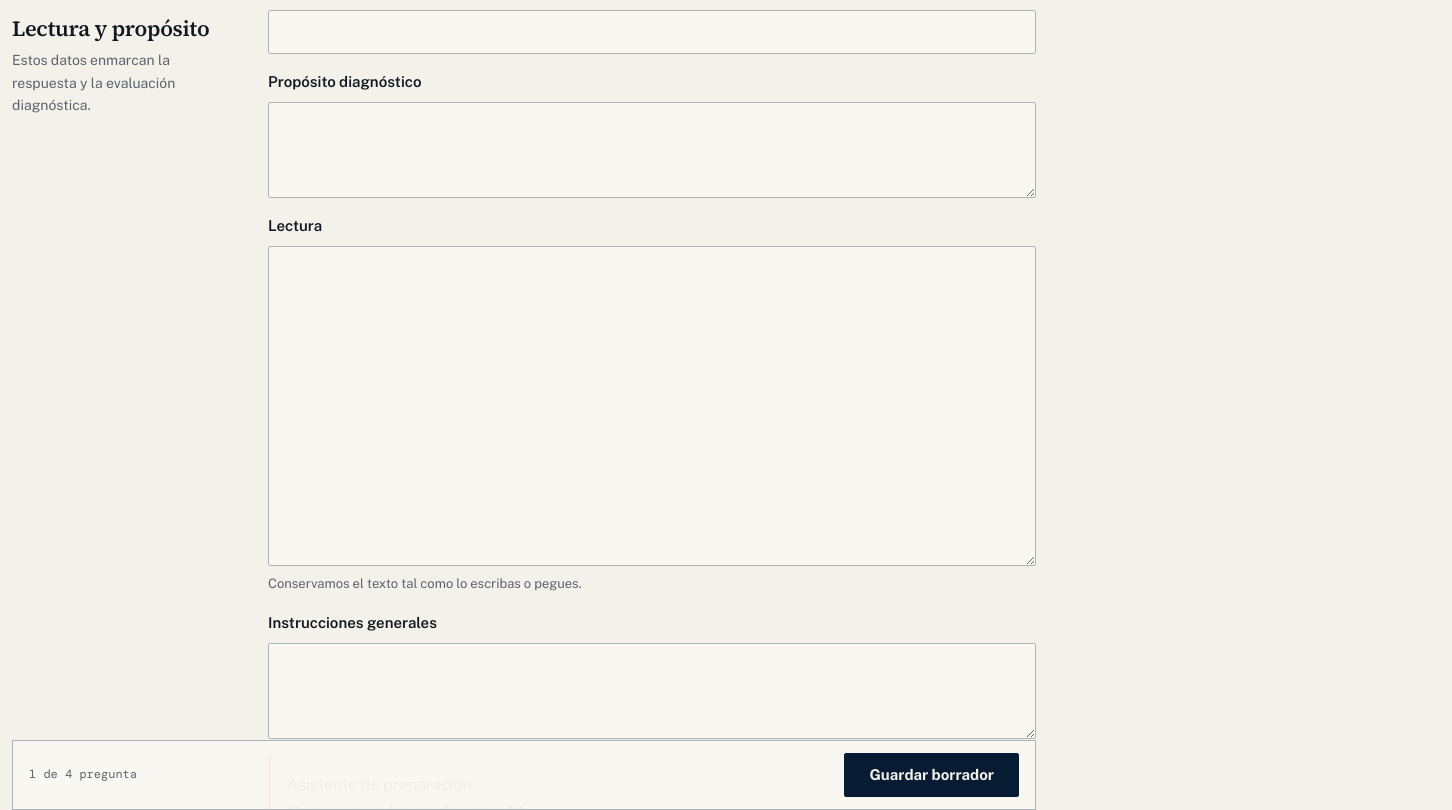
it: AssessmentEditorScreen · asistente IA › muestra un mensaje comprensible cuando la lectura supera el límite del contrato
(page scrolled)
Type "Texto de lectura para analizar." into the text box labelled "Lectura".
click(652, 406); type("Texto de lectura para analizar.")  # box x1=268 y1=246 x2=1036 y2=566
(page scrolled)
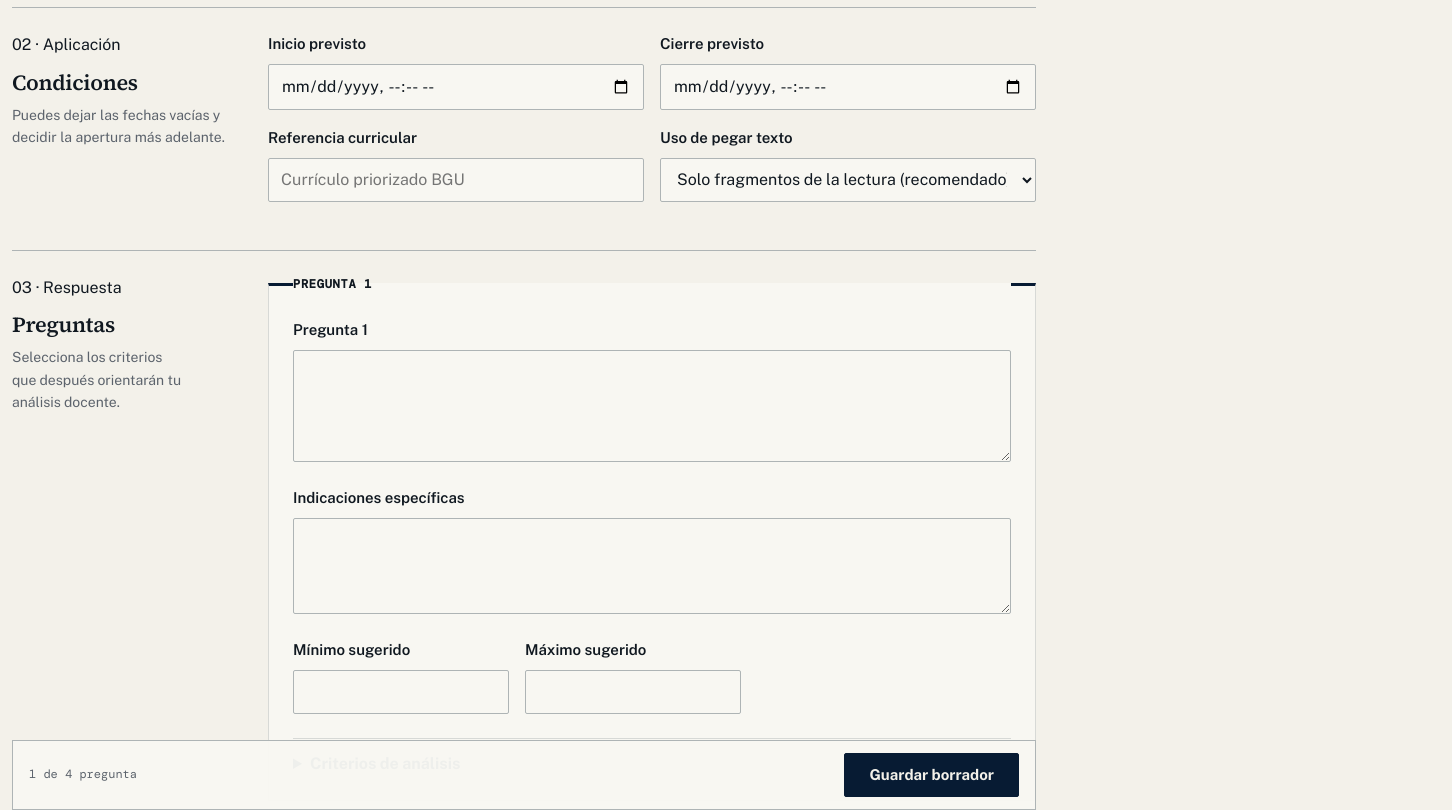
Type "¿Qué sostiene el autor?" into the text box labelled "Pregunta 1".
click(652, 406); type("¿Qué sostiene el autor?")  # box x1=293 y1=350 x2=1011 y2=462
(page scrolled)
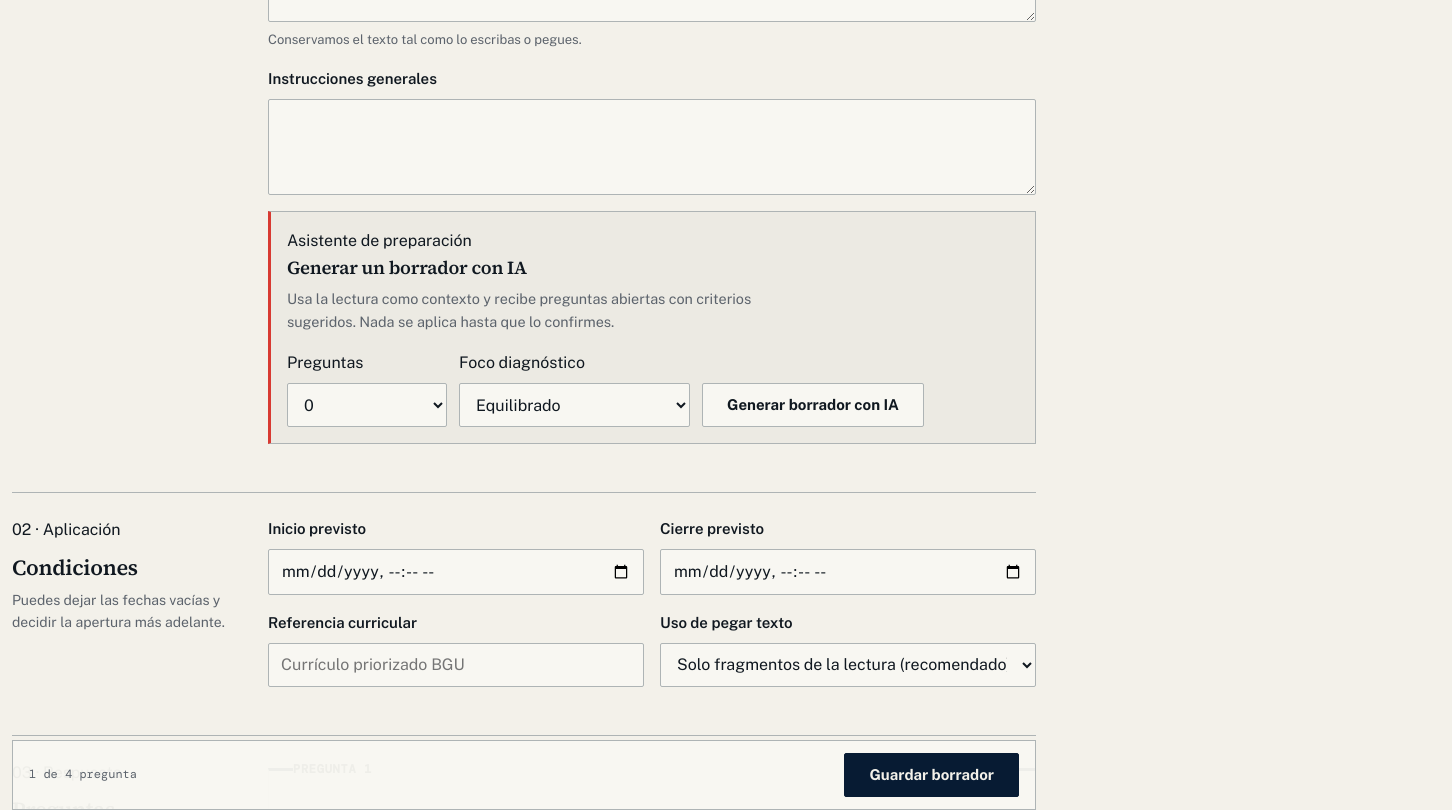
Click the button "Generar borrador con IA".
click(813, 405)  # box x1=702 y1=383 x2=924 y2=427
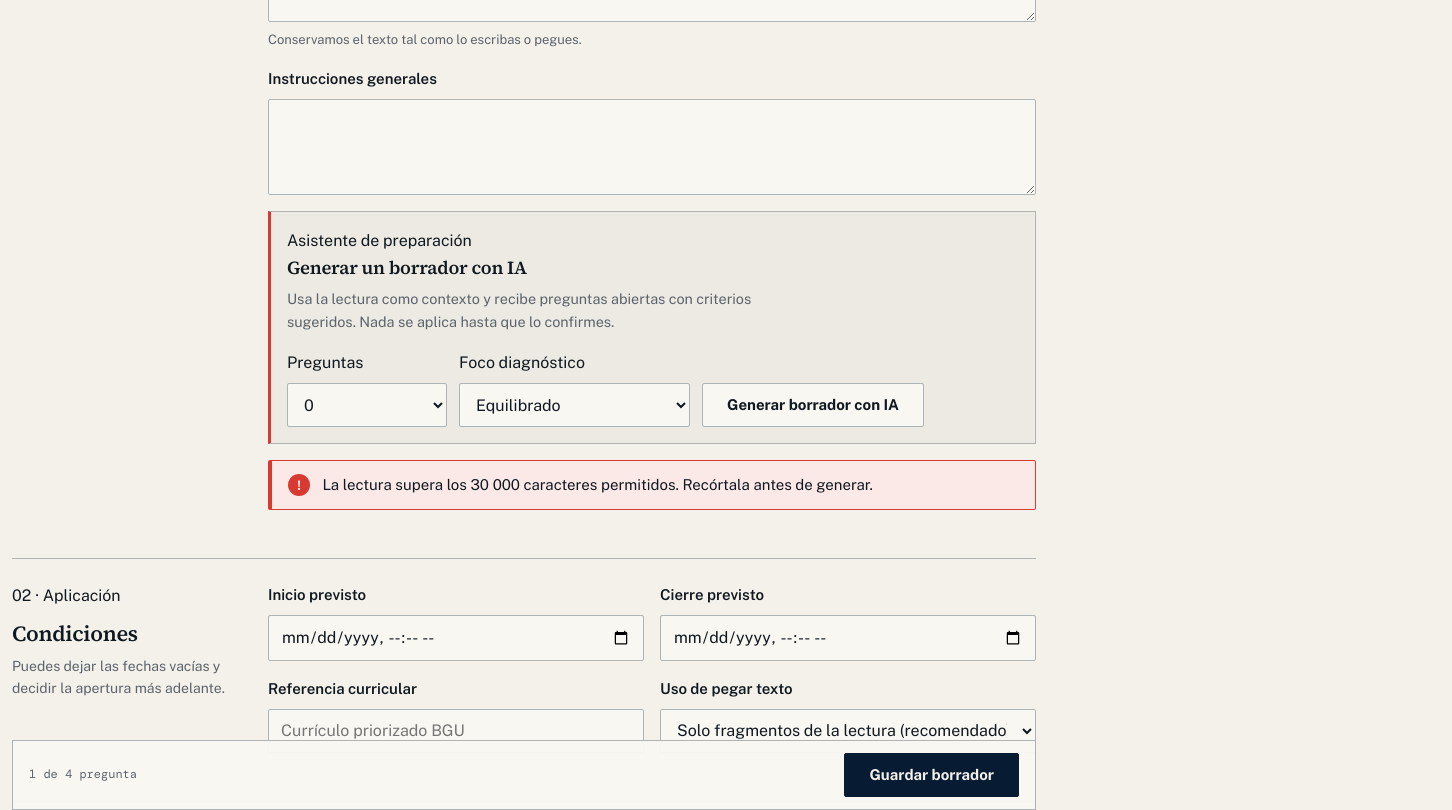
Expected: the message does not show "no está disponible", x1=268 y1=460 x2=1036 y2=510
Expected: the message shows "La lectura supera los 30 000 caracteres permitidos.", x1=322 y1=476 x2=873 y2=493
